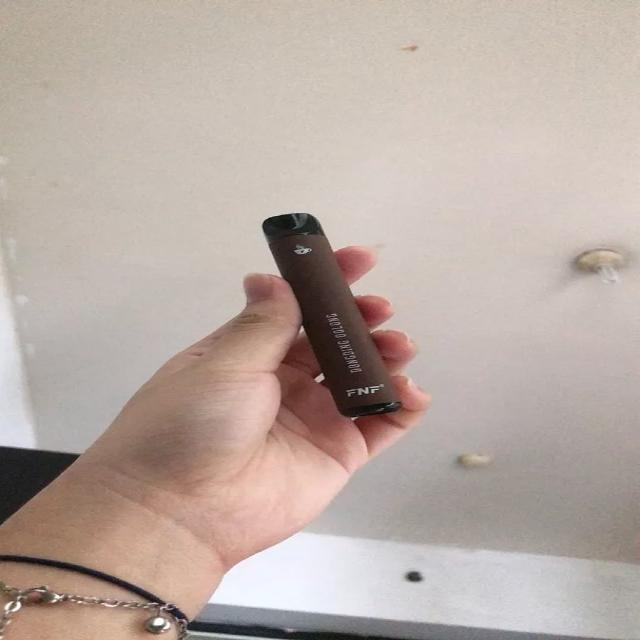Hazard: (258, 212, 404, 418)
